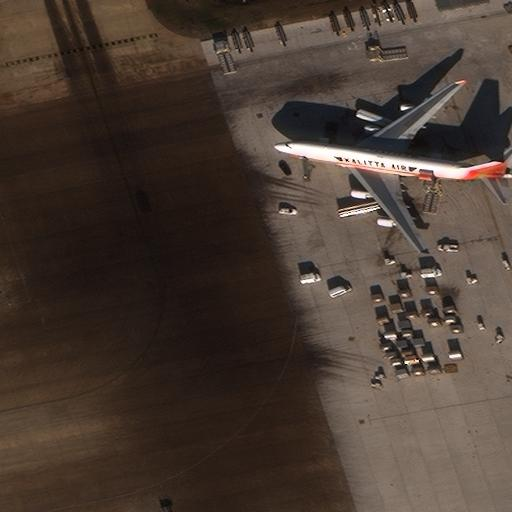Large Civil Transport: (273, 82, 511, 252)
